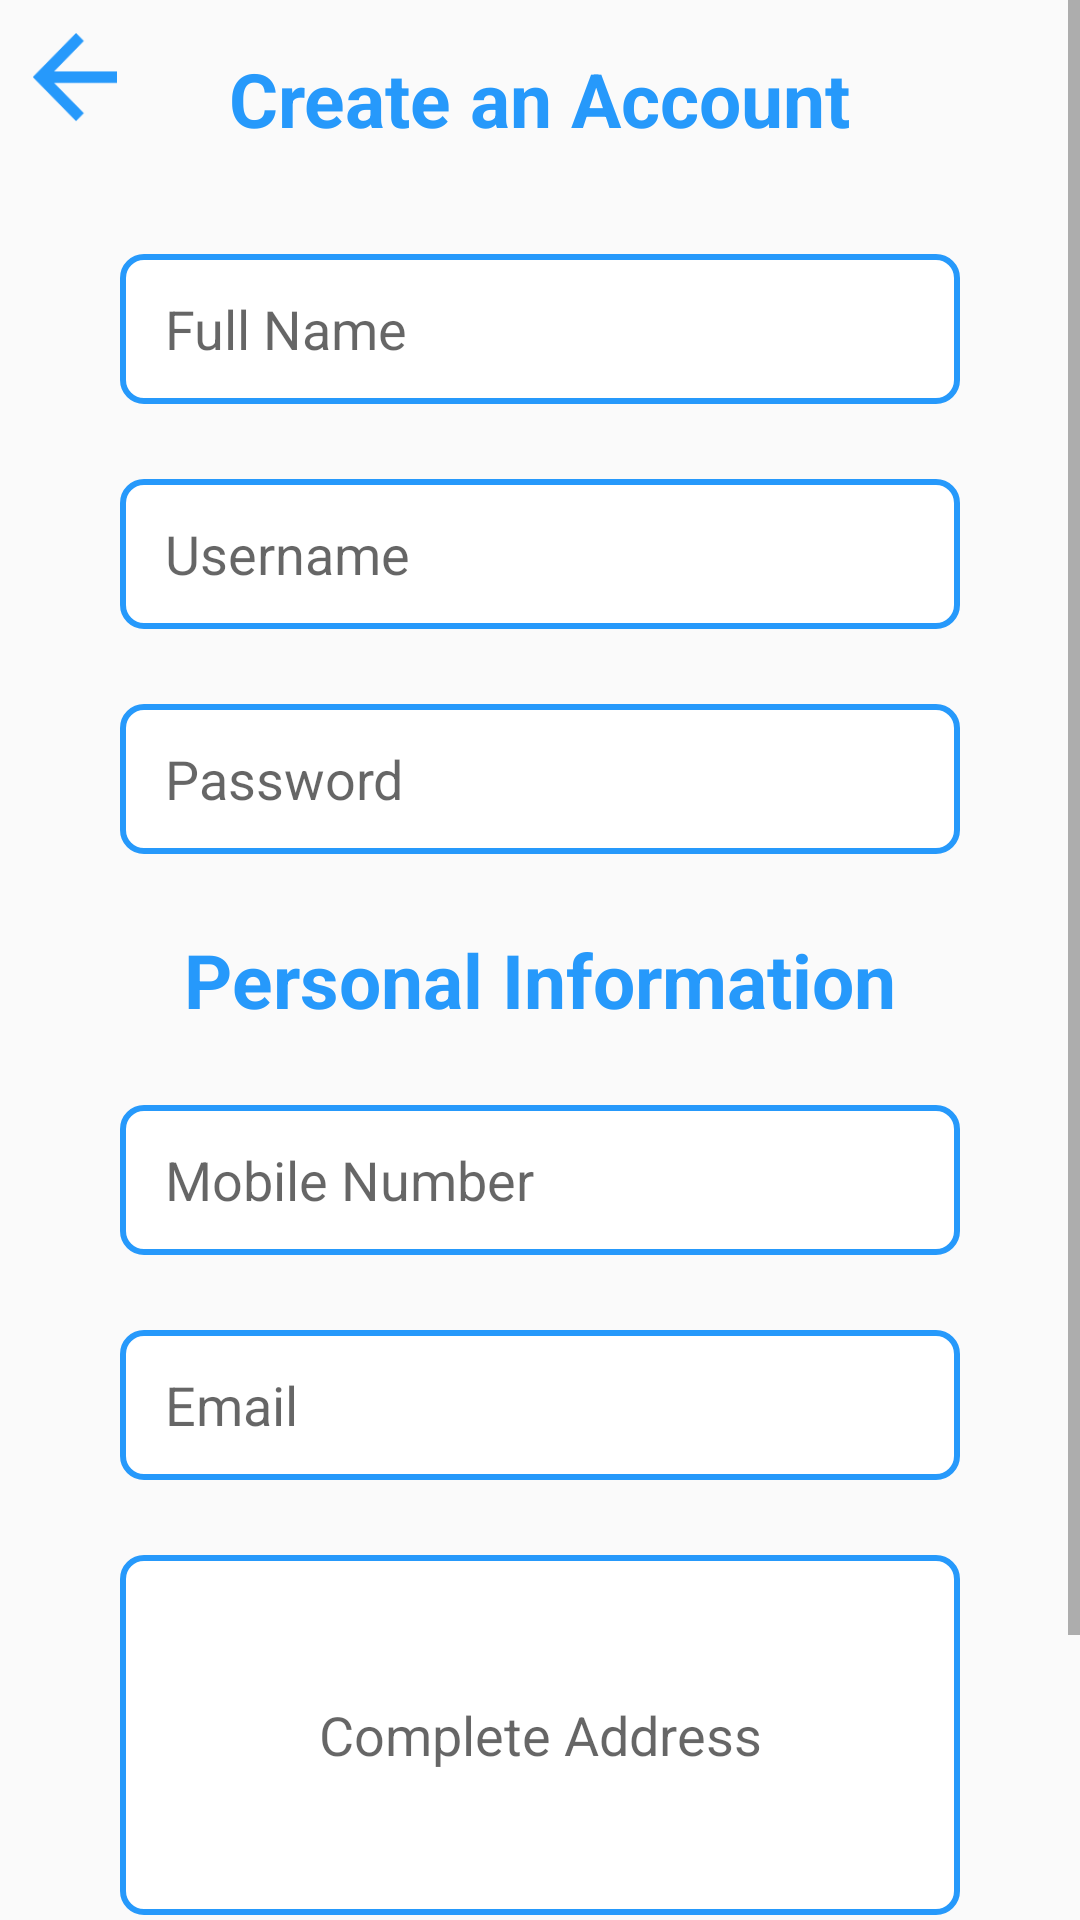

Where icons sit on this 1080 x 1920 app screen, as bbox=(x1, y1, x2, y2):
backward arrow: bbox=(33, 33, 117, 121)
